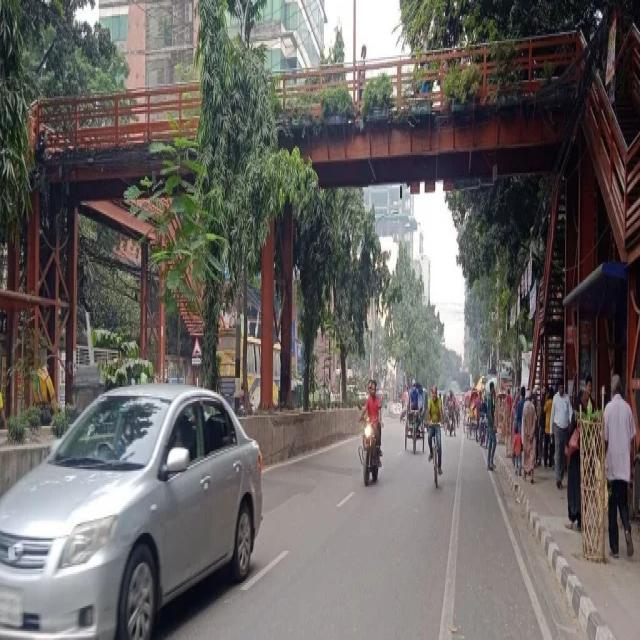bike: (357, 410, 381, 480)
car: (4, 371, 253, 634)
